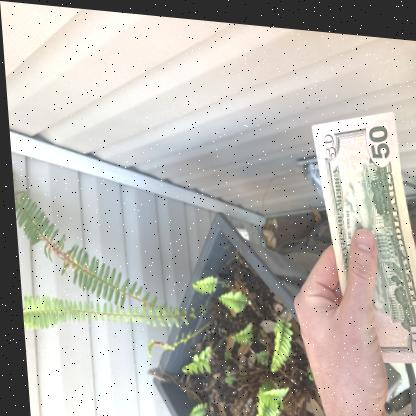fifty-back: (305, 107, 416, 357)
